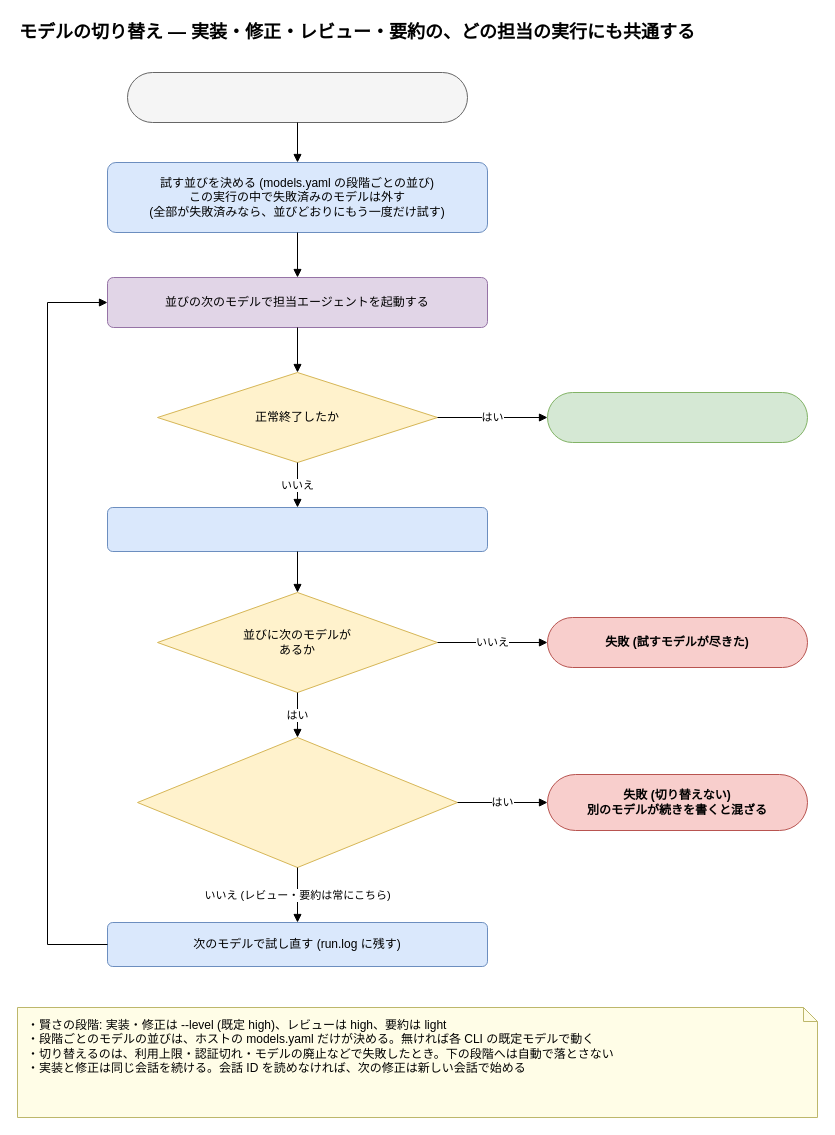
This 835x1135 diagram has some shape labels left out. The shapes that lost their labels are listed below. From the top down, each one's centre as x and y in pixels, then its label:
At point 297,97: "担当を実行する (実装・修正・レビュー・要約)".
At point 677,417: "成功".
At point 297,529: "そのモデルを失敗済みとして覚える".
At point 297,802: "コードを書き換える作業 (実装・修正) で、作業ツリーが 実行の前から変わったか".
